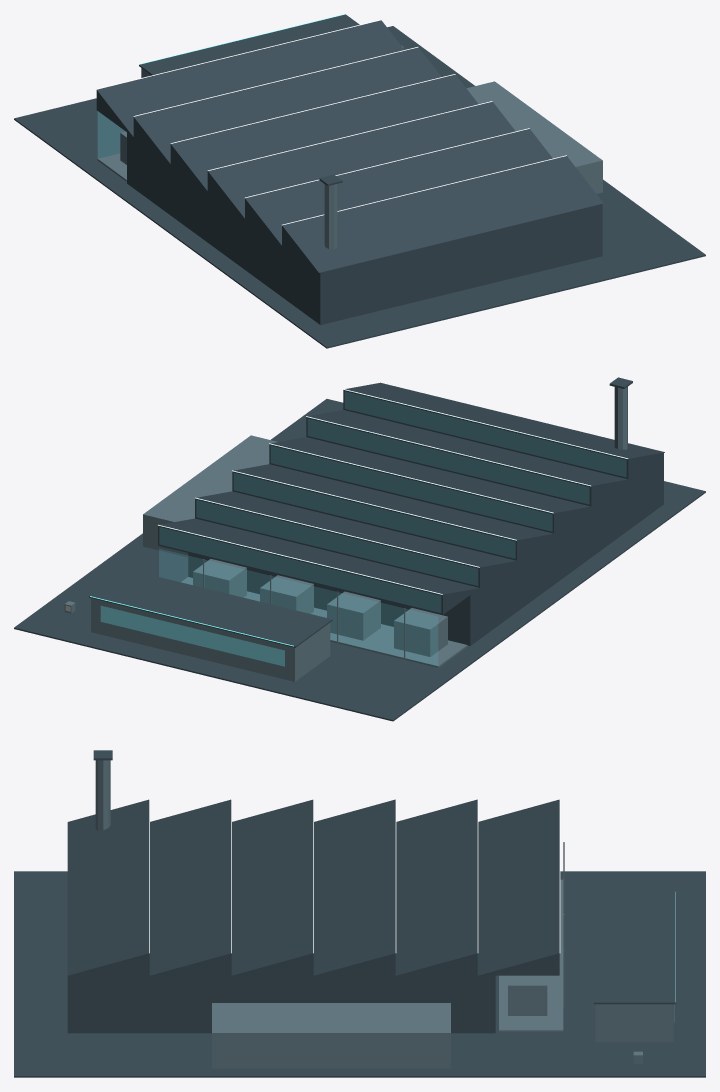
The model's file is factory_industrial_facility.lod1.glb.
The picture shows the model from 3 angles, top to bottom: view 1: azimuth 30°, elevation 25°; view 2: azimuth 150°, elevation 25°; view 3: azimuth 270°, elevation 25°; orthographic projection. The views are drawn at different scales.
Visible parts, largest first — view 1: factory_industrial_facility_graphite.001, factory_industrial_facility_graphite_light.001, factory_industrial_facility_white.001, factory_industrial_facility_glass.001; view 2: factory_industrial_facility_graphite.001, factory_industrial_facility_glass.001, factory_industrial_facility_graphite_light.001, factory_industrial_facility_white.001; view 3: factory_industrial_facility_graphite.001, factory_industrial_facility_graphite_light.001, factory_industrial_facility_white.001.
Part boxes in pixels (x1=…): factory_industrial_facility_graphite.001: x1=14, y1=14, x2=705, y2=348; factory_industrial_facility_graphite_light.001: x1=97, y1=45, x2=602, y2=249; factory_industrial_facility_white.001: x1=96, y1=19, x2=566, y2=225; factory_industrial_facility_glass.001: x1=98, y1=112, x2=124, y2=157; factory_industrial_facility_graphite.001: x1=14, y1=377, x2=705, y2=721; factory_industrial_facility_glass.001: x1=101, y1=392, x2=625, y2=666; factory_industrial_facility_graphite_light.001: x1=64, y1=387, x2=627, y2=681; factory_industrial_facility_white.001: x1=158, y1=389, x2=628, y2=594; factory_industrial_facility_graphite.001: x1=14, y1=750, x2=705, y2=1077; factory_industrial_facility_graphite_light.001: x1=95, y1=760, x2=673, y2=1068; factory_industrial_facility_white.001: x1=149, y1=799, x2=560, y2=953.
Size of the model in its own units: 136 by 44.12 by 194.
